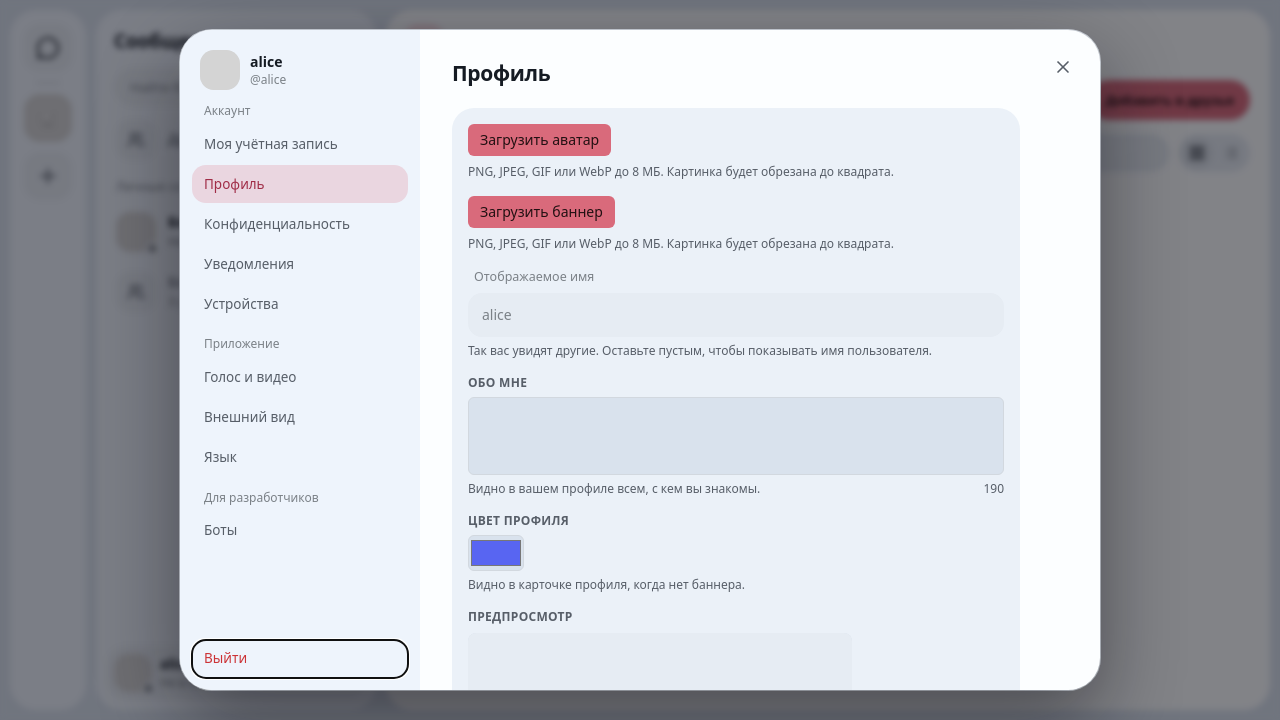
Test: profile section › updates the display name and the user panel
Type "  Алиса " into the field labelled "Отображаемое имя".
click(736, 315); type("  Алиса ")  # box [468,293,1004,337]
(page scrolled)
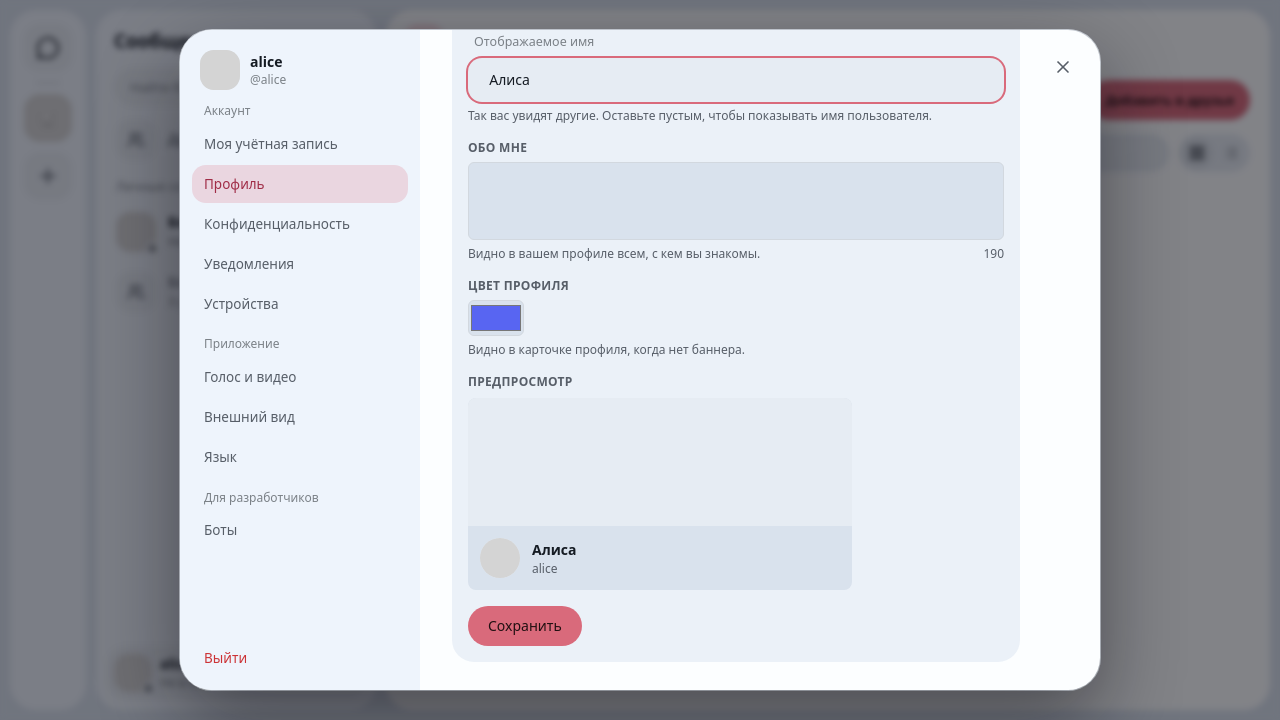
Result: the text "Алиса" is shown at [532,540,576,561]
Click the button "Сохранить".
click(525, 626)  # box [468,606,582,646]
(page scrolled)
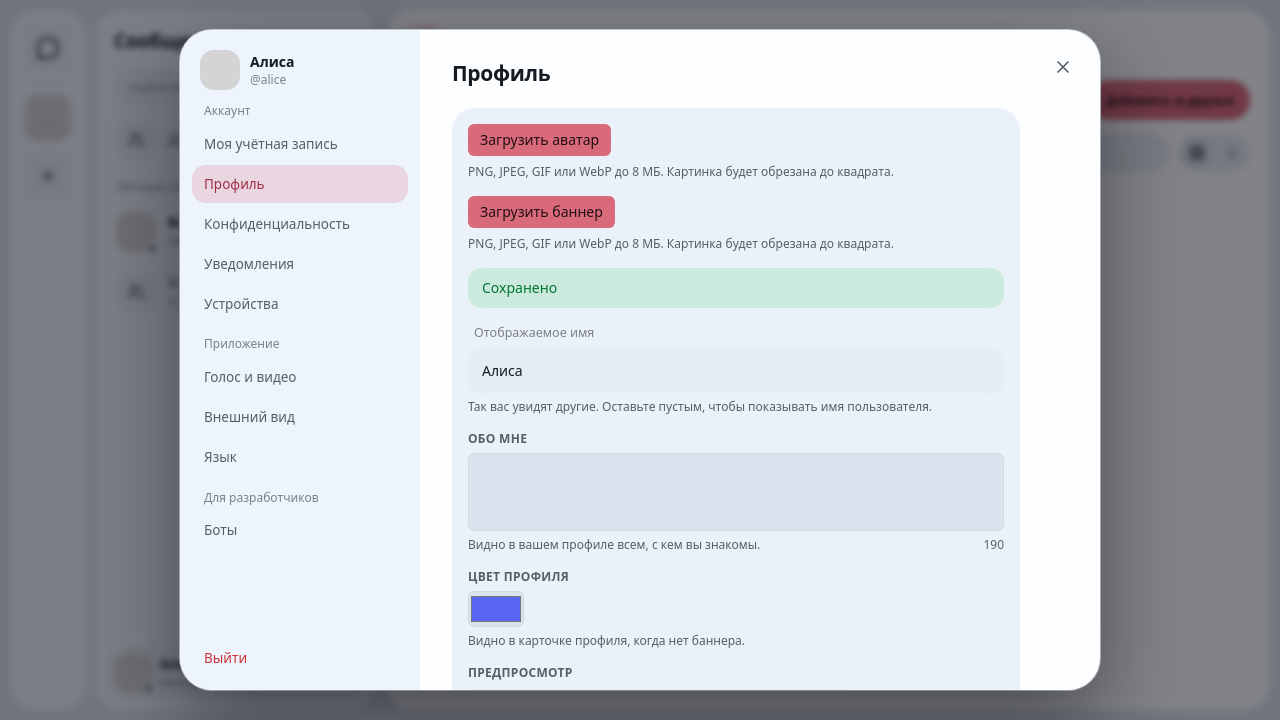
Result: the text "Сохранено" is shown at [468,268,1004,308]
